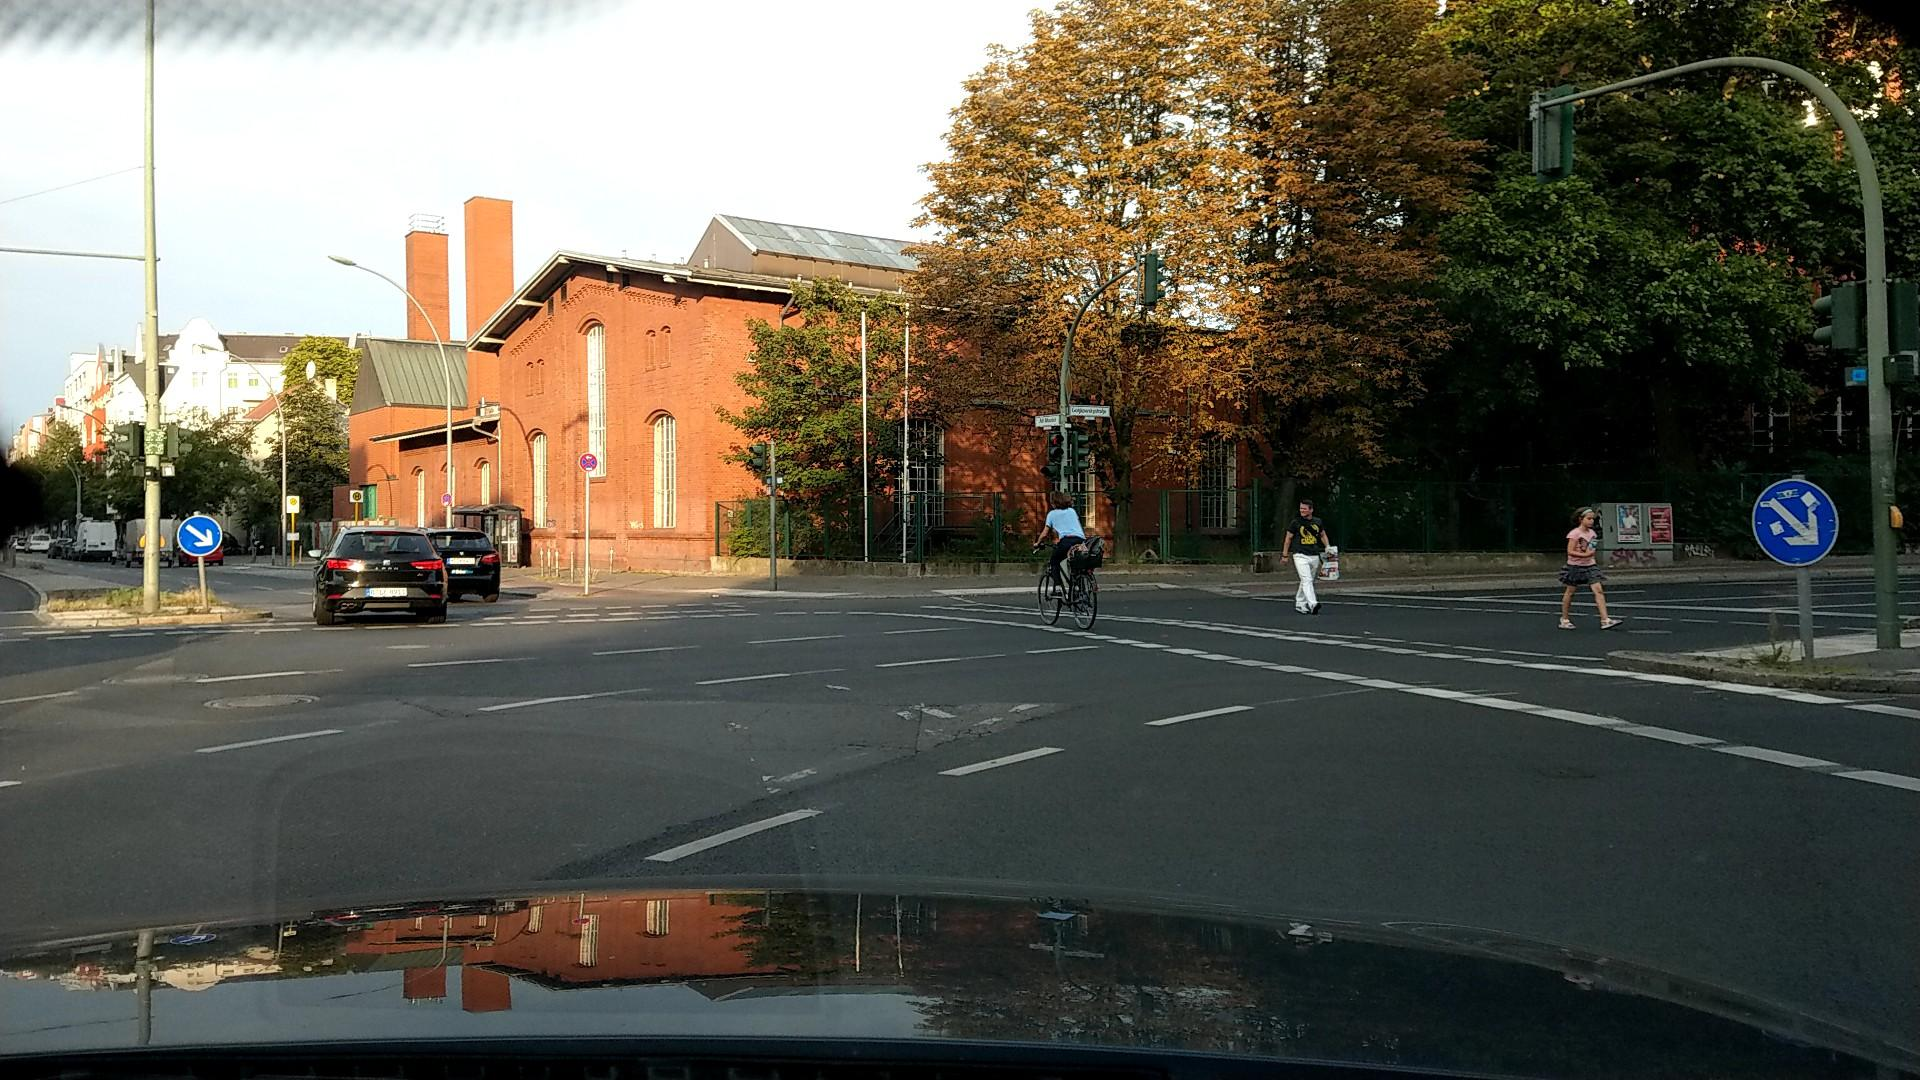Human face: (1576, 505, 1596, 529), (1298, 499, 1314, 519)
Vehicle registration plate: (363, 587, 408, 598), (445, 557, 476, 565)
